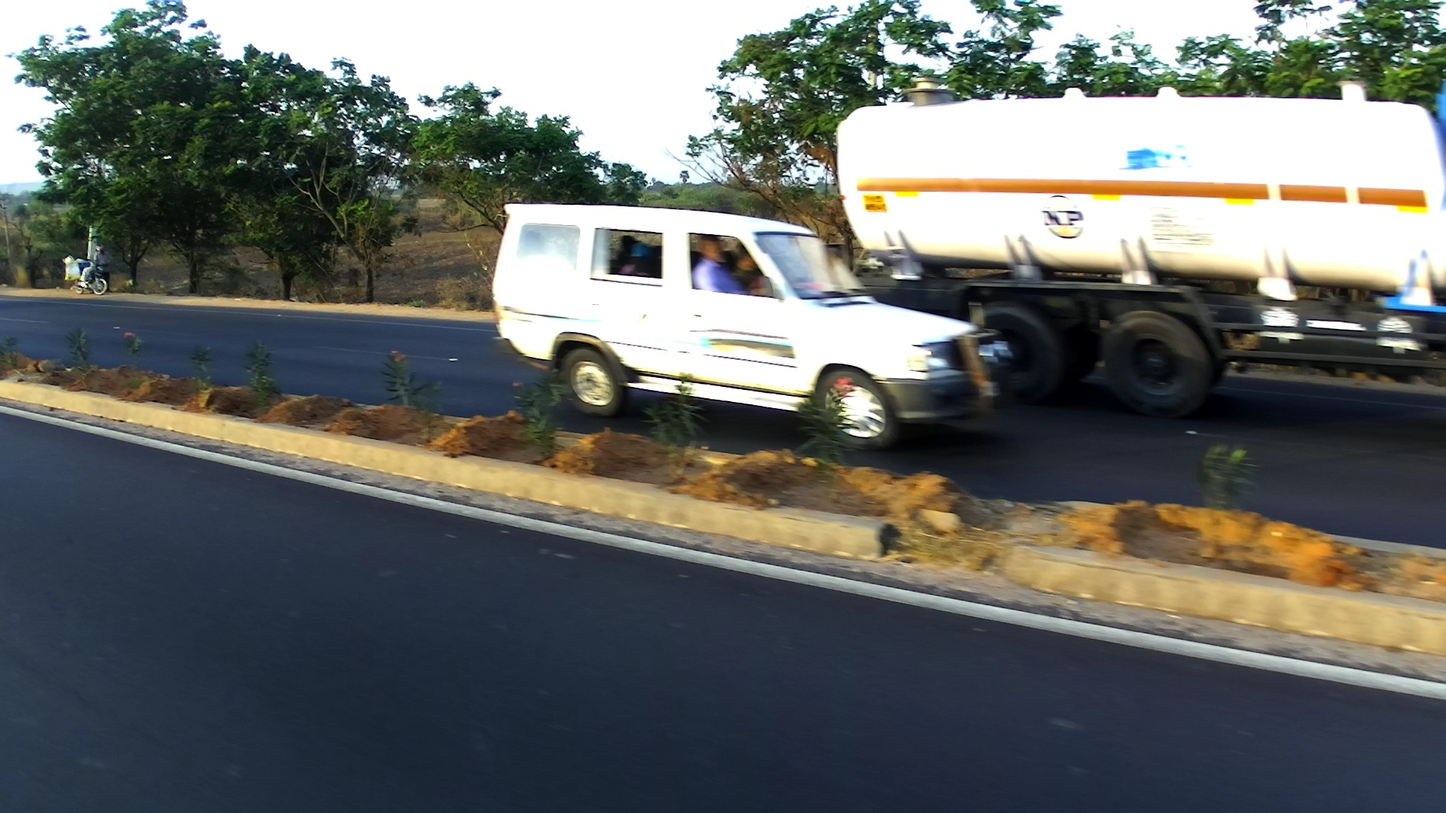car: (489, 199, 1014, 455)
motorcycle: (65, 257, 109, 294)
rider: (88, 245, 114, 298)
truck: (836, 67, 1444, 420)
